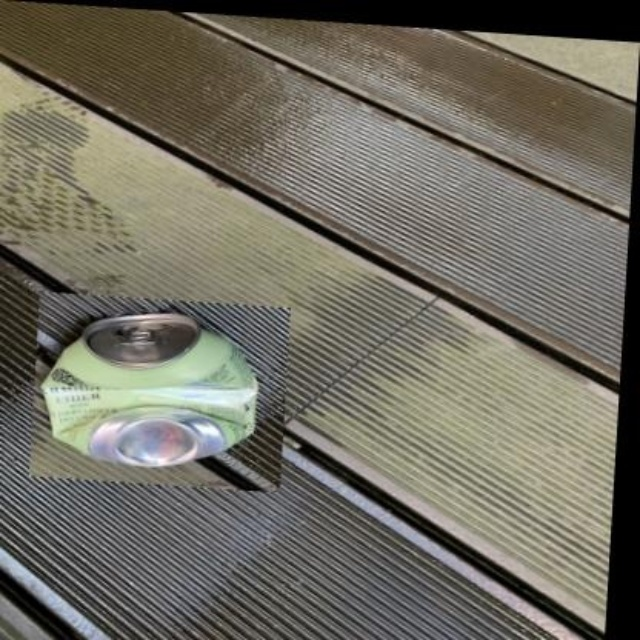trash: (42, 314, 257, 465)
